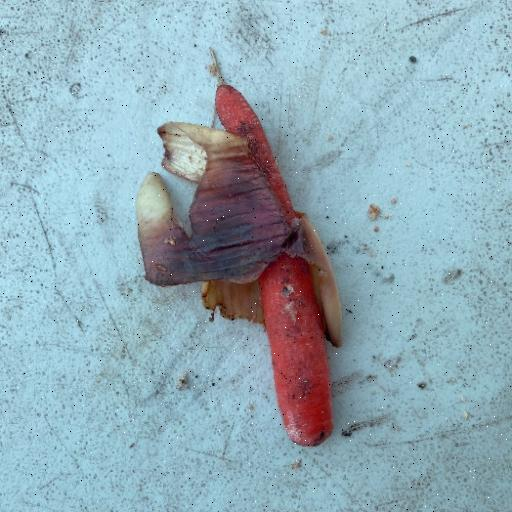Waste: (134, 48, 345, 448)
